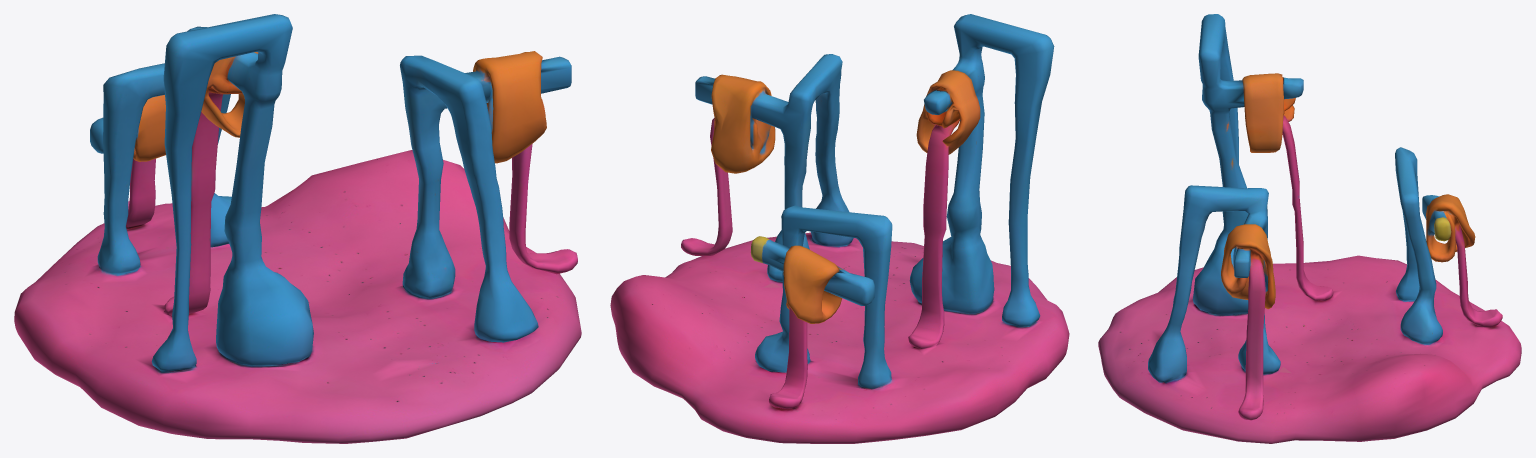
File: 3abfe574-7095-4cb7-8120-947ce413ef5a.glb
3 renders of one model, left to right at view 1: azimuth 30°, elevation 25°; view 2: azimuth 150°, elevation 25°; view 3: azimuth 270°, elevation 25°, orthographic. The views are drawn at different scales.
Parts seen in each view (by area): view 1: tripo_node_94f5305c-f50a-4676-a40d-4c23848c5853; view 2: tripo_node_94f5305c-f50a-4676-a40d-4c23848c5853; view 3: tripo_node_94f5305c-f50a-4676-a40d-4c23848c5853.
Part boxes in pixels (box(x1,y1,x2,y2)): tripo_node_94f5305c-f50a-4676-a40d-4c23848c5853: box(14, 14, 581, 443); tripo_node_94f5305c-f50a-4676-a40d-4c23848c5853: box(610, 14, 1069, 443); tripo_node_94f5305c-f50a-4676-a40d-4c23848c5853: box(1098, 14, 1521, 443).
Bounding box in the file's own units: 0.9452 × 0.7495 × 1.
1 material, 1 textured.
